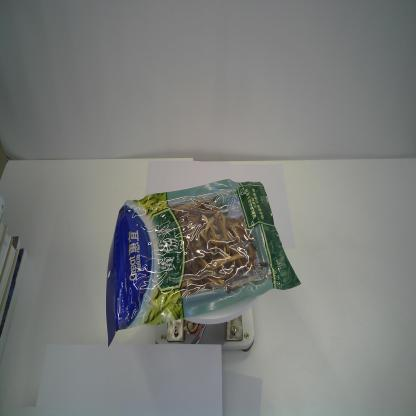Dried Food: (104, 176, 302, 349)
